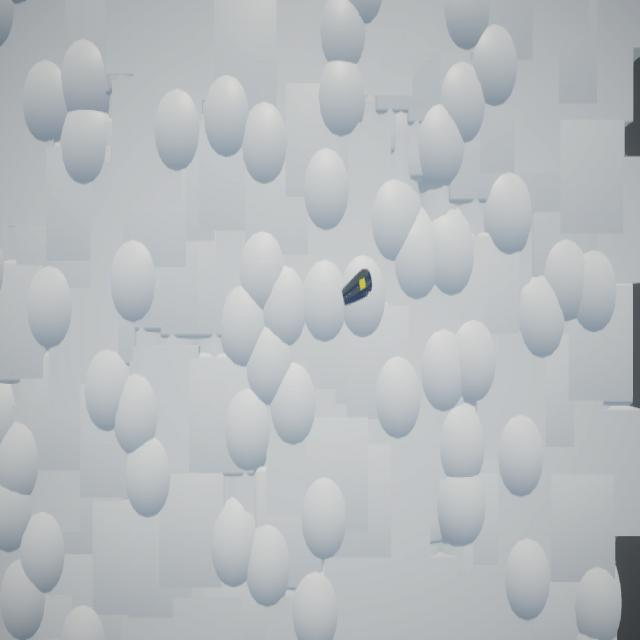handle_folk: (343, 270, 373, 308)
